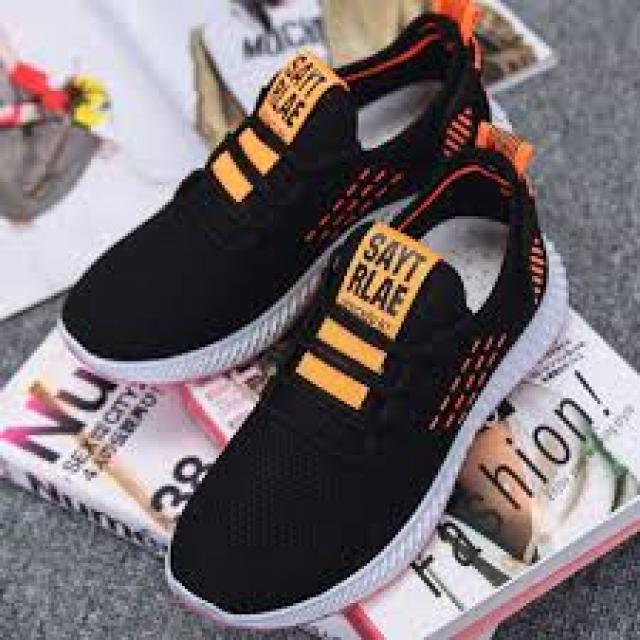shoe: (156, 137, 566, 629), (57, 9, 514, 371)
